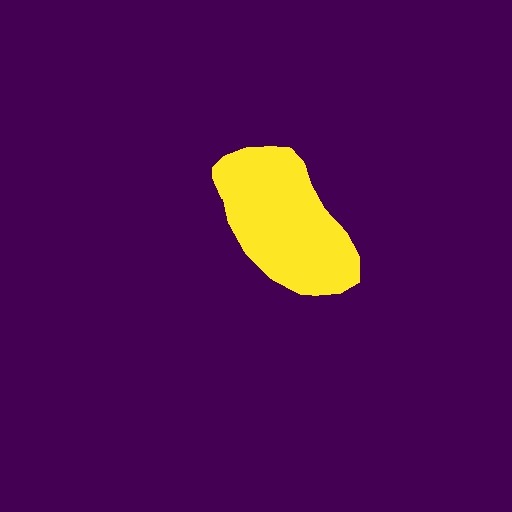Gliomia_tumour: (212, 146, 360, 296)
